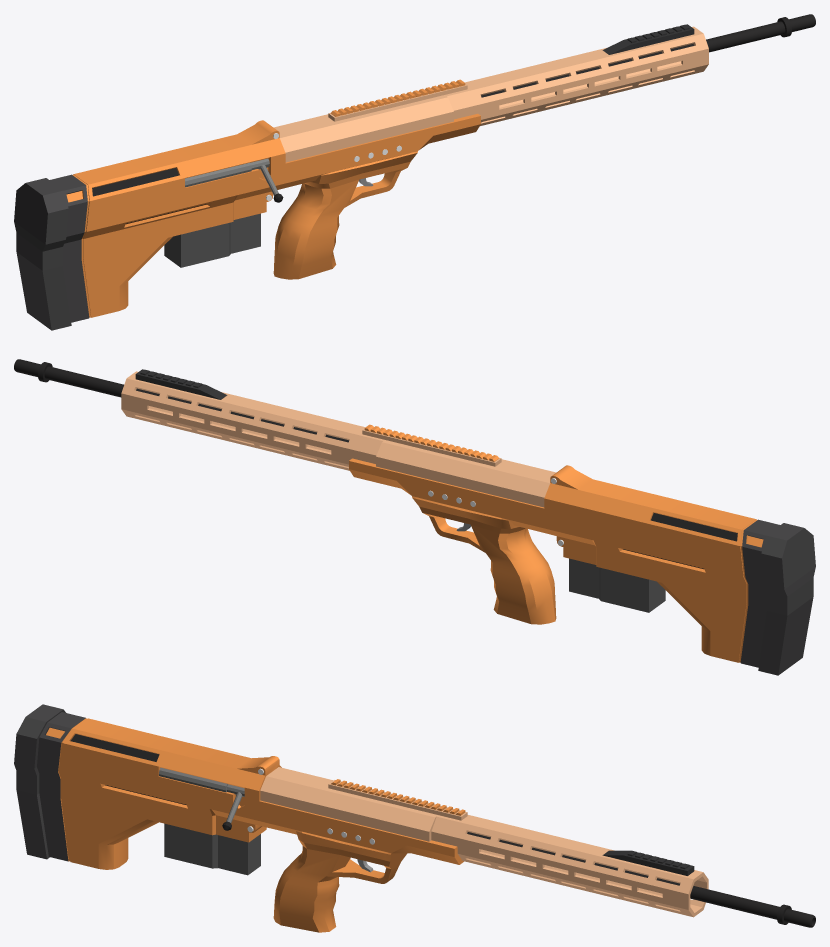
The model's file is Desert_Tech_SRS_Mesh.fbx.
3 views of the same model, one above another, from view 1: azimuth 30°, elevation 25°; view 2: azimuth 150°, elevation 25°; view 3: azimuth 330°, elevation 25° (orthographic).
Visible parts, largest first — view 1: Desert_Tech_SRS; view 2: Desert_Tech_SRS; view 3: Desert_Tech_SRS.
Boxes of the visible parts, bbox=[...] form: Desert_Tech_SRS: bbox=[14, 14, 815, 330]; Desert_Tech_SRS: bbox=[14, 359, 815, 675]; Desert_Tech_SRS: bbox=[14, 704, 815, 932].
Bounding box in the file's own units: 1.03 × 0.1902 × 0.0991.
